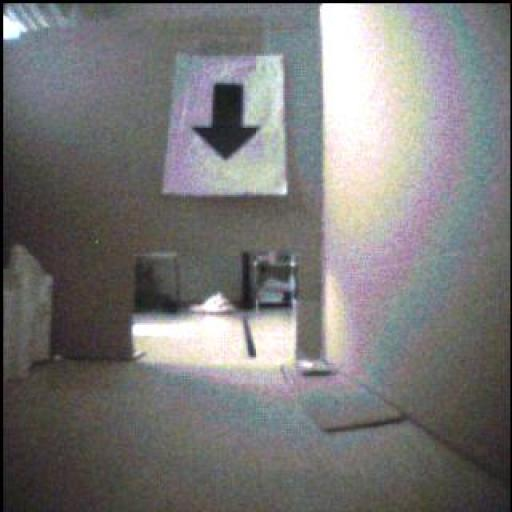arrow: (195, 85, 260, 160)
